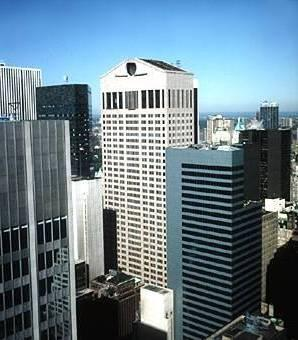building: (102, 56, 198, 285), (166, 145, 262, 340), (0, 120, 77, 340), (35, 74, 93, 177), (73, 260, 139, 340), (71, 180, 102, 286), (0, 58, 42, 121)
